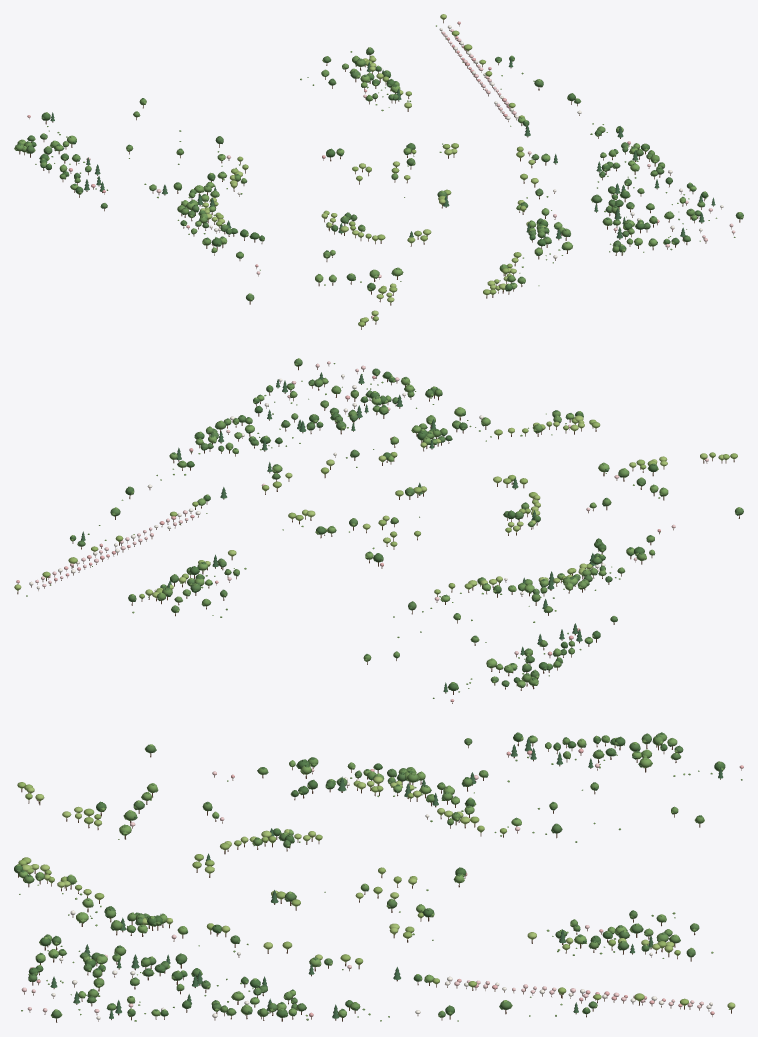
The picture shows the model from 3 angles, top to bottom: view 1: azimuth 30°, elevation 25°; view 2: azimuth 150°, elevation 25°; view 3: azimuth 270°, elevation 25°; orthographic projection. The views are drawn at different scales.
Bounding box in the file's own units: 32.83 × 1.01 × 35.93.
